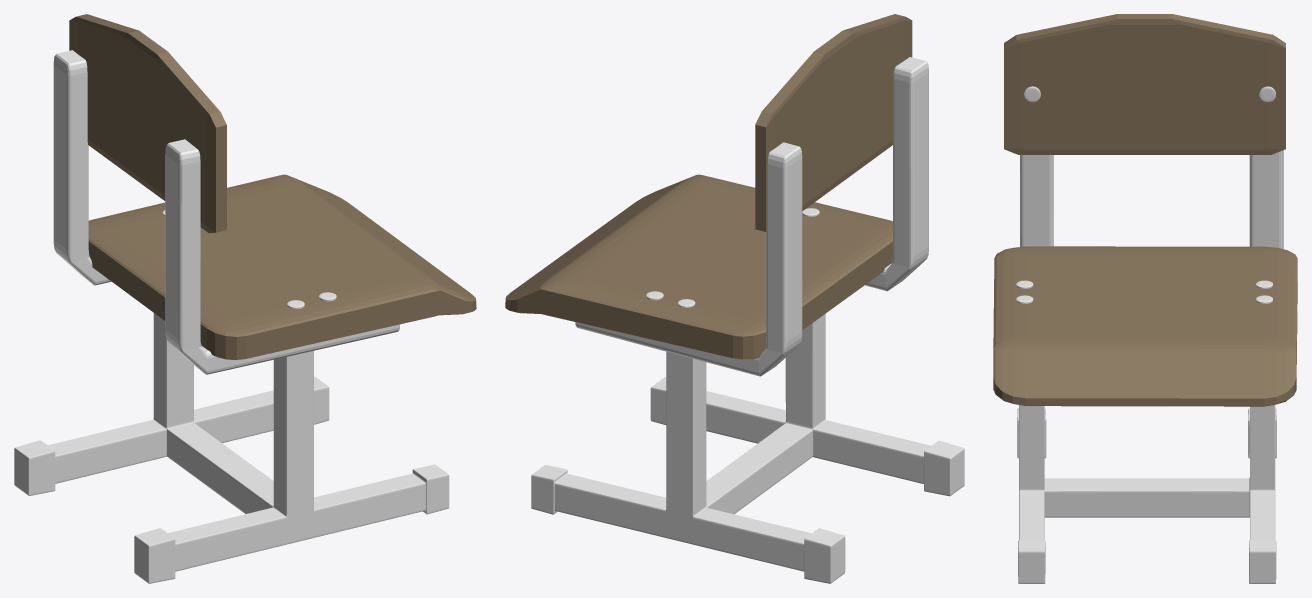
3 views of the same model, side by side, from view 1: azimuth 30°, elevation 25°; view 2: azimuth 150°, elevation 25°; view 3: azimuth 270°, elevation 25° (orthographic). The views are drawn at different scales.
Parts seen in each view (by area): view 1: Cube, Cube.003, Cube.002, Cube.001; view 2: Cube, Cube.003, Cube.002, Cube.001; view 3: Cube, Cube.002, Cube.003, Cube.001, Cylinder.001, Cylinder.
Part boxes in pixels (bbox=[...]): Cube: bbox=[88, 174, 476, 359]; Cube.003: bbox=[14, 313, 449, 583]; Cube.002: bbox=[69, 14, 226, 233]; Cube.001: bbox=[53, 50, 399, 374]; Cube: bbox=[505, 174, 892, 359]; Cube.003: bbox=[531, 314, 964, 583]; Cube.002: bbox=[755, 14, 912, 231]; Cube.001: bbox=[575, 57, 928, 376]; Cube: bbox=[993, 246, 1297, 406]; Cube.002: bbox=[1004, 14, 1285, 154]; Cube.003: bbox=[1017, 404, 1276, 583]; Cube.001: bbox=[1020, 150, 1283, 248]; Cylinder.001: bbox=[1016, 280, 1272, 303]; Cylinder: bbox=[1024, 86, 1275, 102].
Bounding box in the file's own units: 101 × 141 × 84.34.
